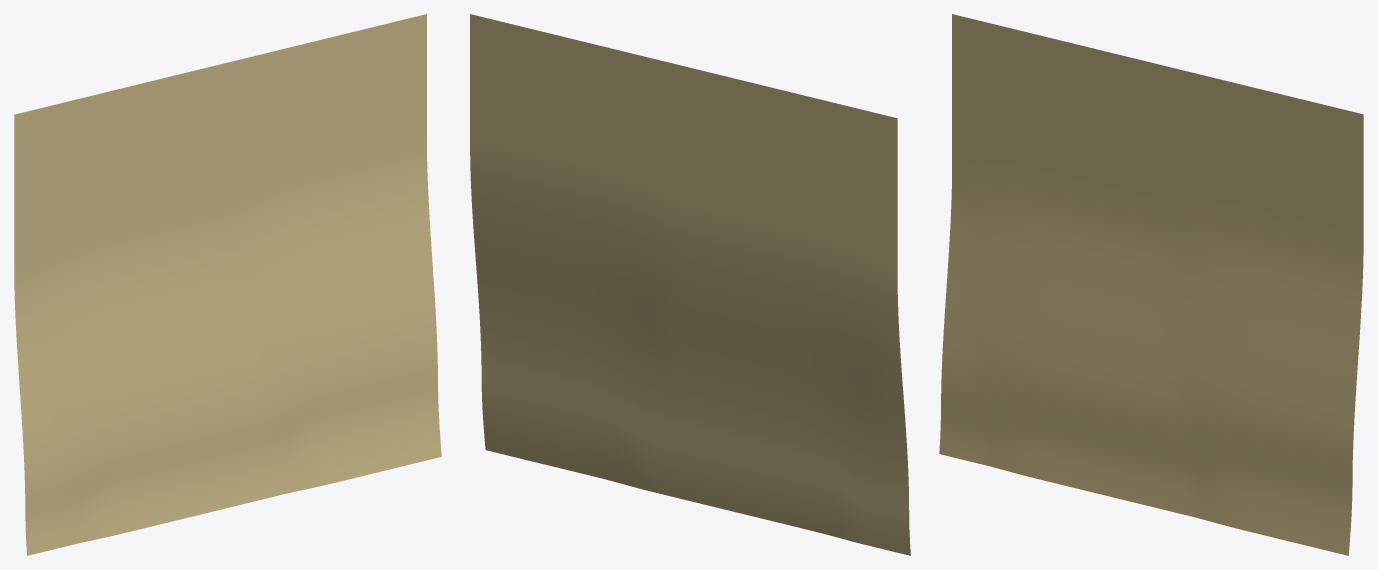
Rendered from island_terrain_06_08.obj.
The picture shows the model from 3 angles, left to right: view 1: azimuth 30°, elevation 25°; view 2: azimuth 150°, elevation 25°; view 3: azimuth 330°, elevation 25°; orthographic projection. The views are drawn at different scales.
Visible parts, largest first — view 1: island_terrain_06_08; view 2: island_terrain_06_08; view 3: island_terrain_06_08.
Part boxes in pixels (left/top/right/bottom): island_terrain_06_08: left=14, top=14, right=441, bottom=555; island_terrain_06_08: left=470, top=14, right=910, bottom=555; island_terrain_06_08: left=939, top=14, right=1363, bottom=555.
Bounding box in the file's own units: 256 × 256 × 16.05.
